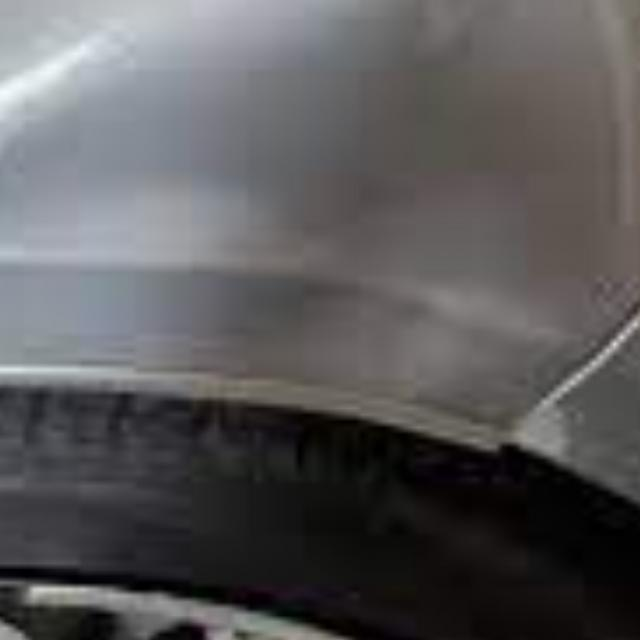dents: (240, 186, 542, 433)
